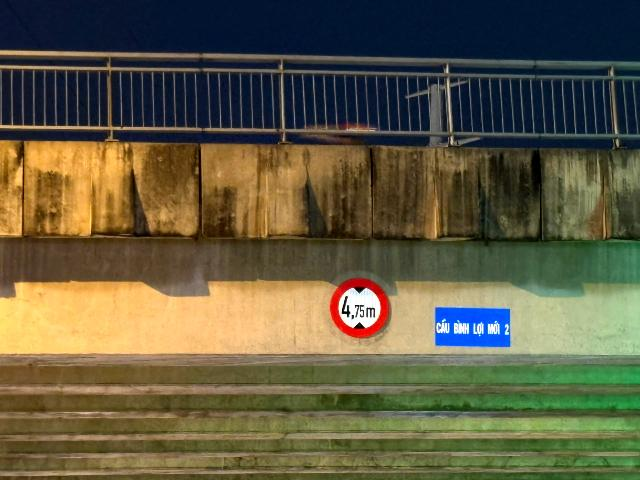han-che-chieu-cao: (330, 277, 389, 339)
